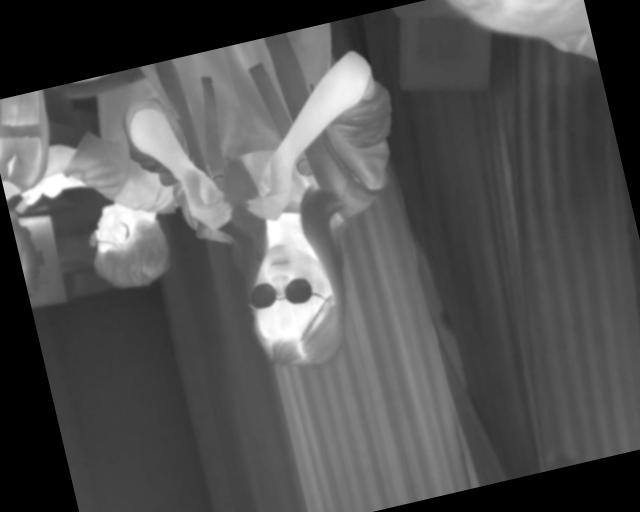face: (235, 233, 353, 378)
